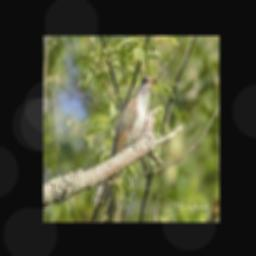Cuckoo: (92, 76, 157, 209)
